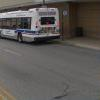Bus: (1, 7, 61, 45)
